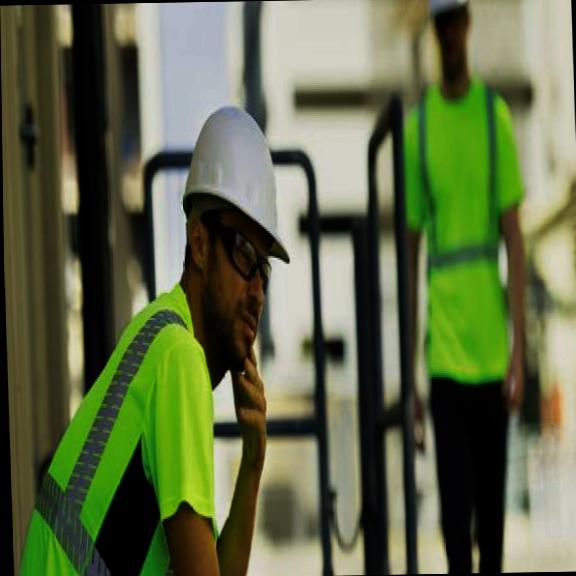safety_vest: (11, 272, 223, 576), (396, 66, 532, 385)
